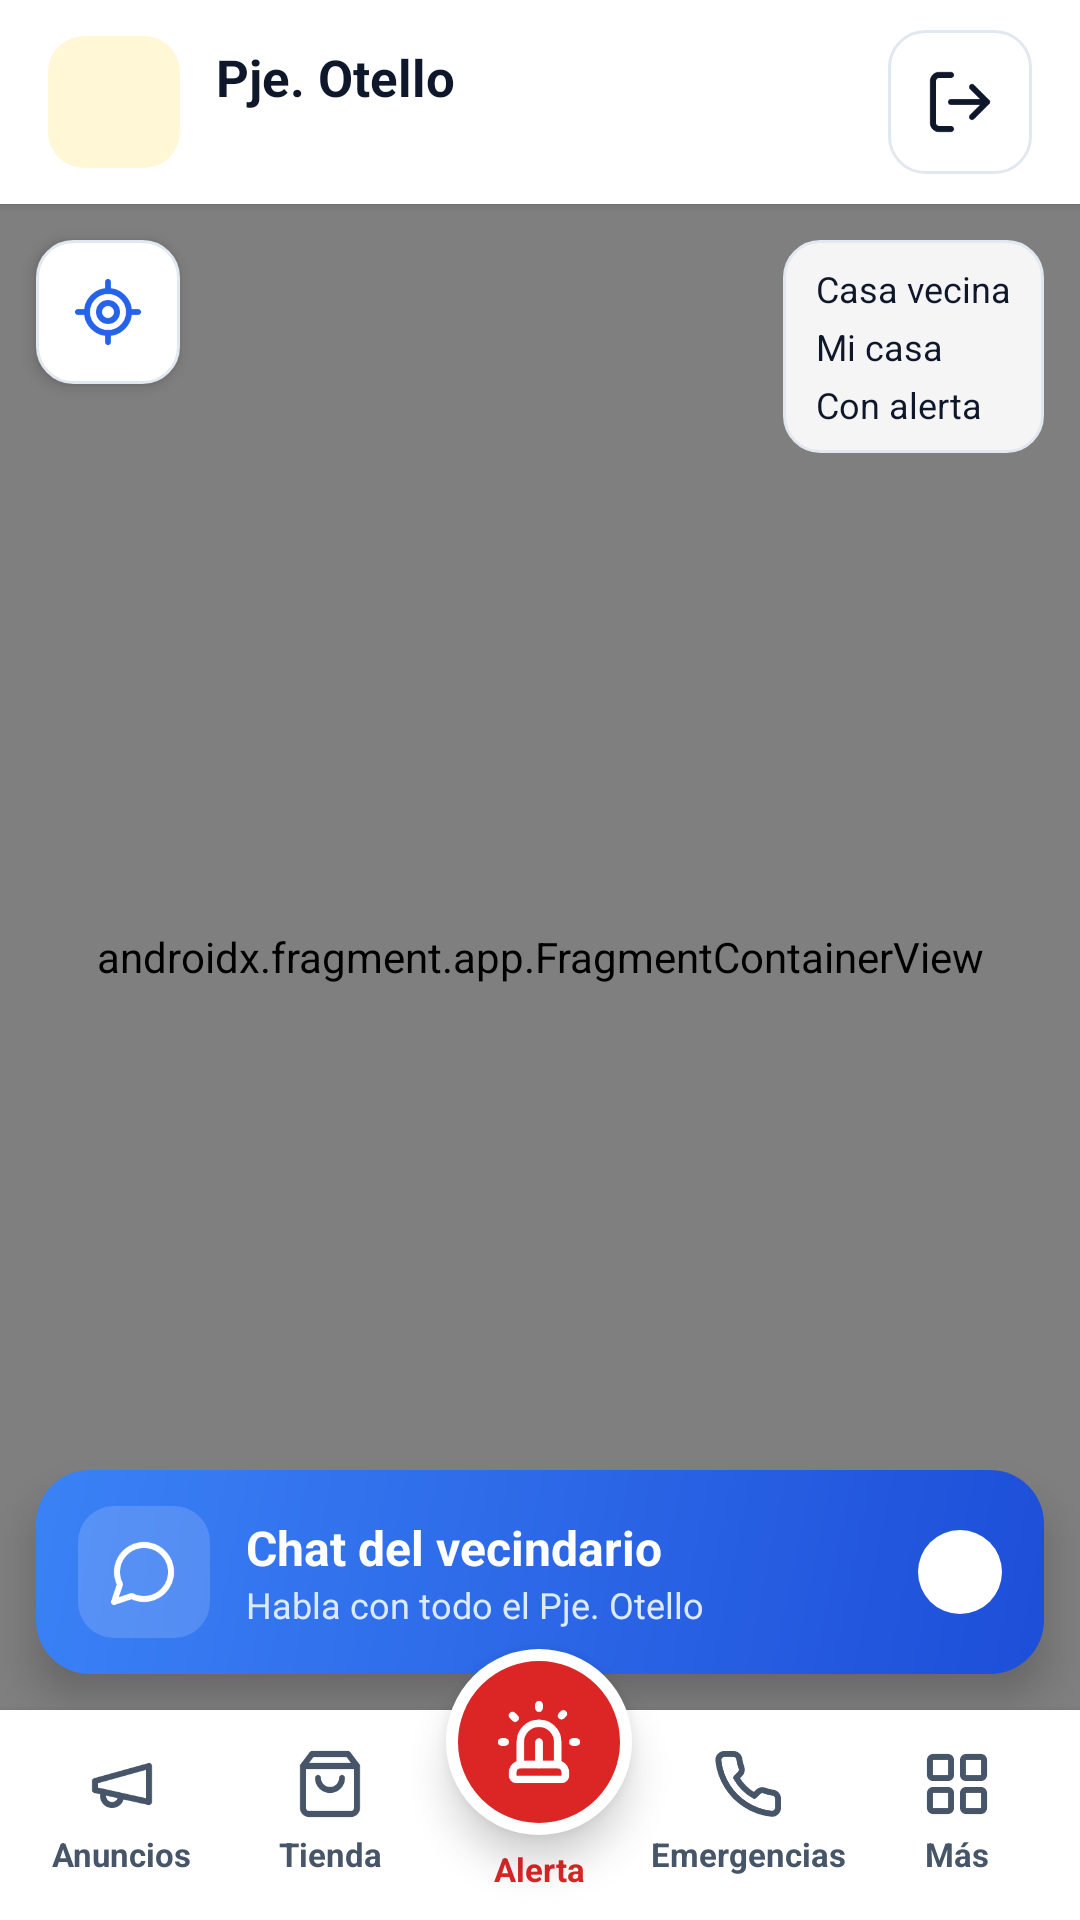

Where to tap for icons on this 1080×1920 app screen, as [x,y]:
bolsa: [330,1784]
Cerrar sesión: [960,102]
cuadros: [957,1784]
megafono: [122,1785]
telefono: [748,1784]
